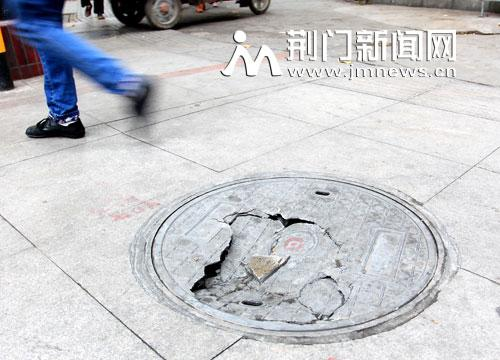wellcover: (136, 170, 456, 337)
